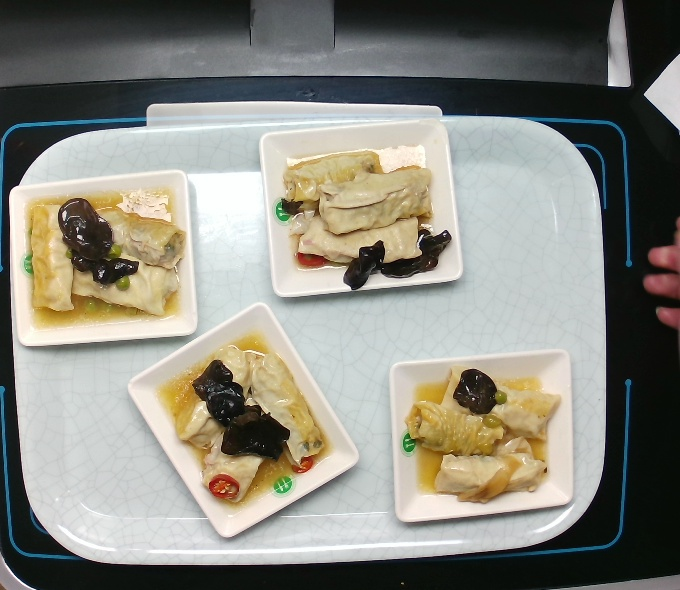wcq-QianZhangBao: (280, 146, 454, 294), (176, 340, 328, 505), (403, 362, 563, 505), (22, 193, 188, 317)
